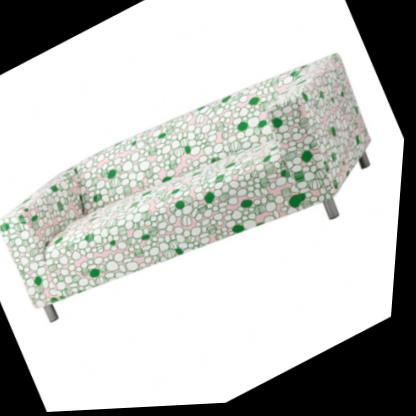Sofa: (0, 25, 413, 373)
